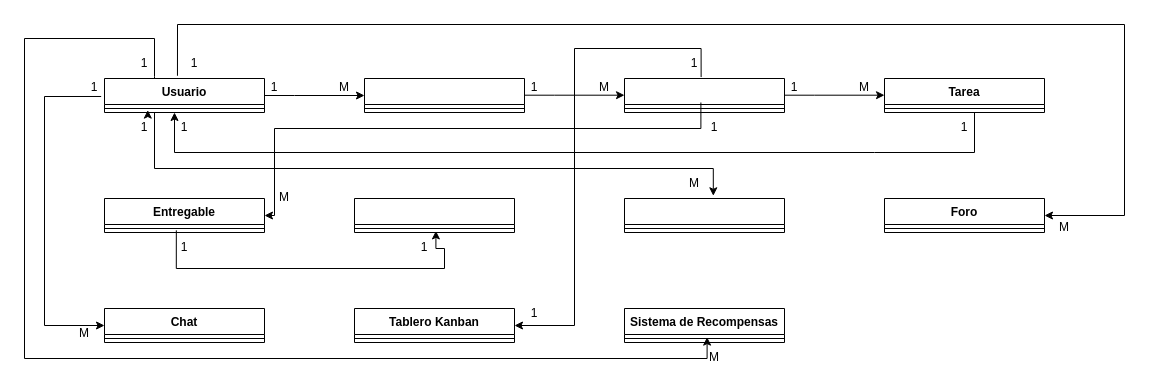
The diagram is 1150 pixels wide and 390 high, and some of its shapes have lost their labels. Here are the shapes that lost their labels. From the top down, the centre of each, then its label:
At (444,95): "Equipo".
At (704,95): "Proyecto".
At (434,215): "IA Evaluadora".
At (704,215): "Notificación".
